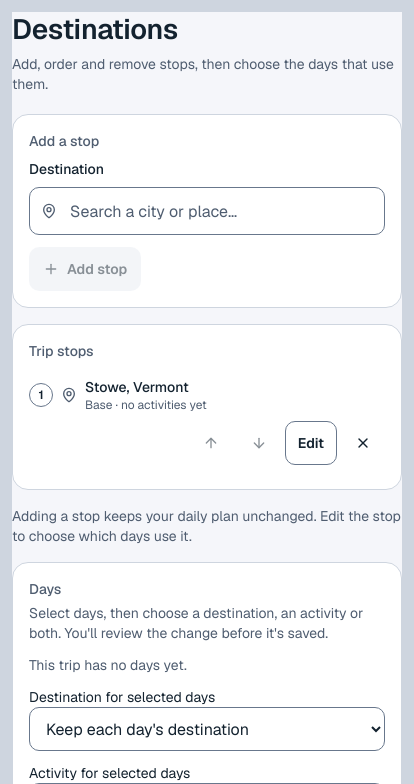
Destinations after creation › adds a later stop without changing day assignments
In the dropdown labelled "Destination": (207, 211) left=29, top=187, right=385, bottom=235, type "Stowe"
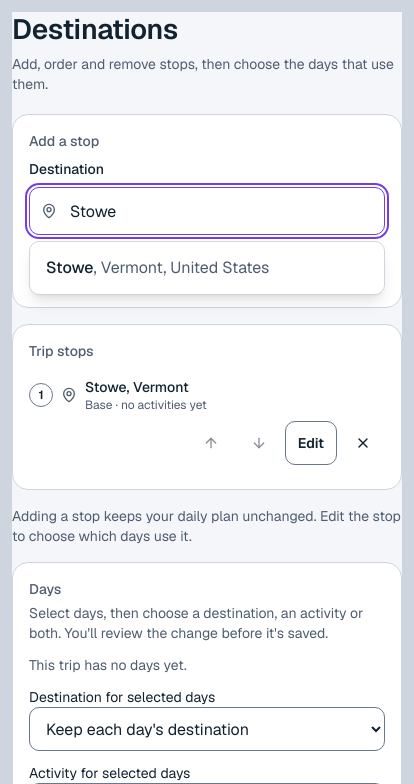
Click the option "Stowe, Vermont, United States": (158, 268) left=46, top=257, right=269, bottom=278
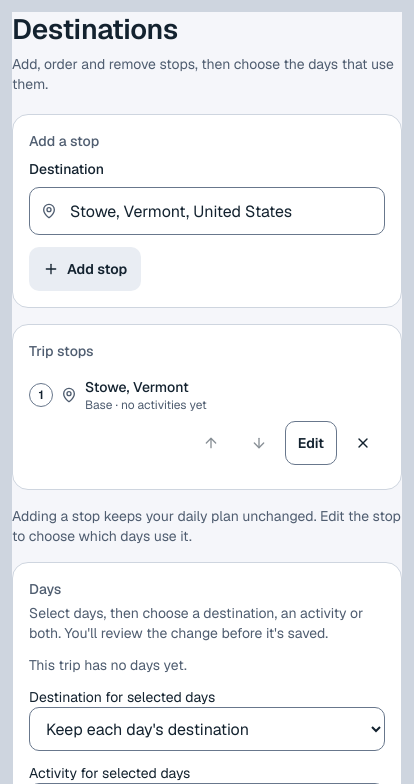
Click the button "Add stop": (85, 269) left=29, top=247, right=141, bottom=291
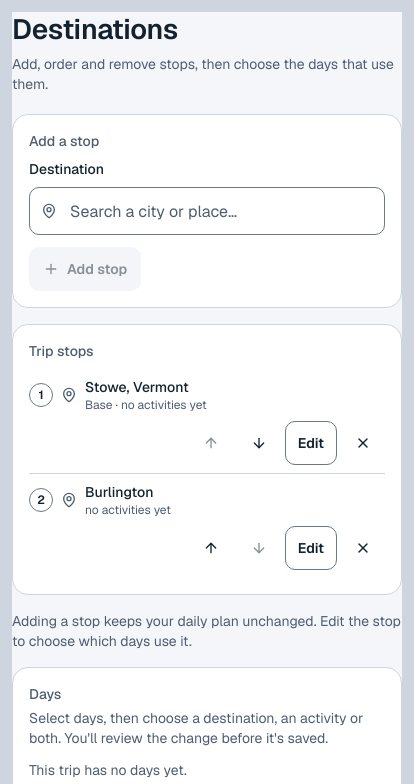
Expected: the text "Adding a stop keeps your daily plan unchanged" is shown, left=12, top=612, right=401, bottom=650
Expected: the text "Burlington" is shown, left=85, top=483, right=153, bottom=501
